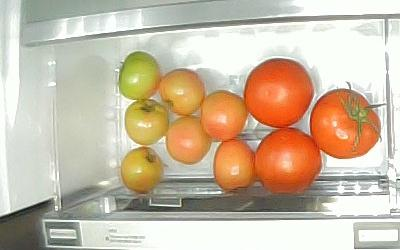tomato: (310, 81, 386, 159), (246, 59, 313, 129), (254, 127, 322, 194), (213, 138, 256, 194), (203, 89, 247, 142), (120, 51, 162, 101), (167, 117, 210, 165), (160, 69, 204, 115), (122, 146, 164, 193), (125, 100, 168, 145)
